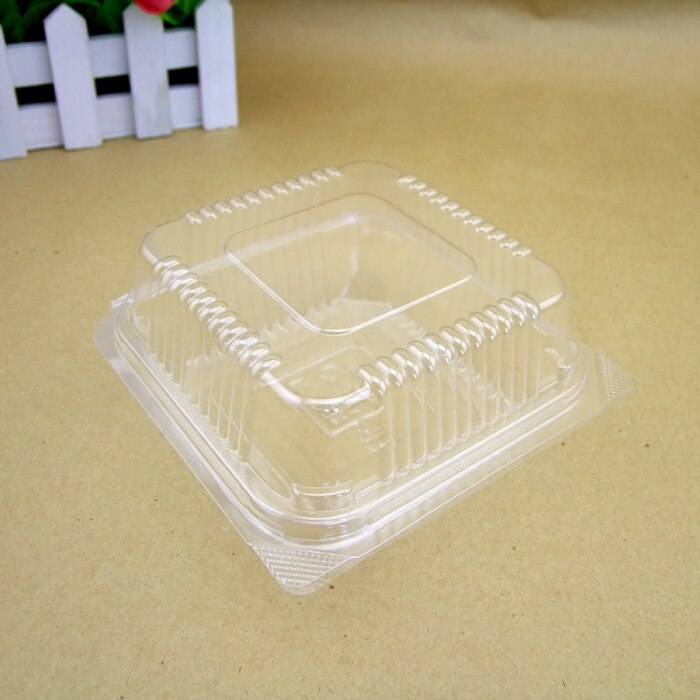PlasticBox: (88, 157, 643, 599)
